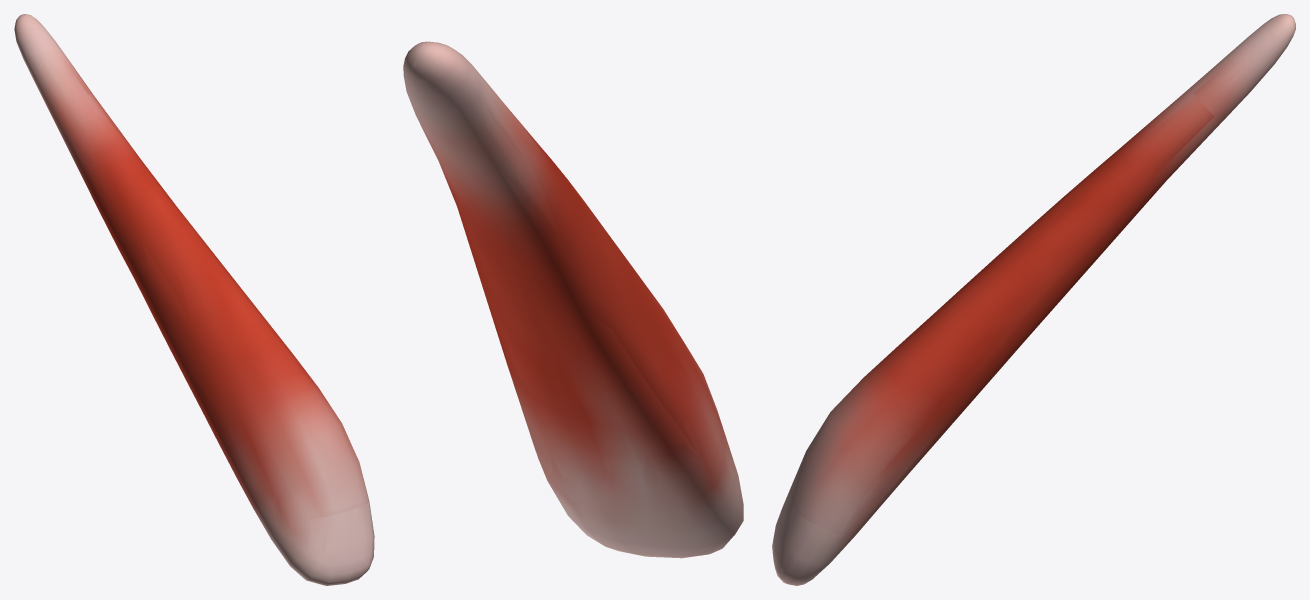
File: L Quadratus Femoris.fbx
3 renders of one model, left to right at view 1: azimuth 30°, elevation 25°; view 2: azimuth 150°, elevation 25°; view 3: azimuth 270°, elevation 25°, orthographic. The views are drawn at different scales.
Visible parts, largest first — view 1: L Quadratus Femoris, L Quadratus Femoris low; view 2: L Quadratus Femoris, L Quadratus Femoris low; view 3: L Quadratus Femoris, L Quadratus Femoris low.
Boxes of the visible parts, bbox=[...] form: L Quadratus Femoris: bbox=[14, 14, 374, 585]; L Quadratus Femoris low: bbox=[15, 15, 374, 584]; L Quadratus Femoris: bbox=[403, 41, 743, 558]; L Quadratus Femoris low: bbox=[405, 42, 742, 556]; L Quadratus Femoris: bbox=[772, 14, 1295, 585]; L Quadratus Femoris low: bbox=[772, 16, 1295, 585].
Bounding box in the file's own units: 5.18 × 13.89 × 13.07.
